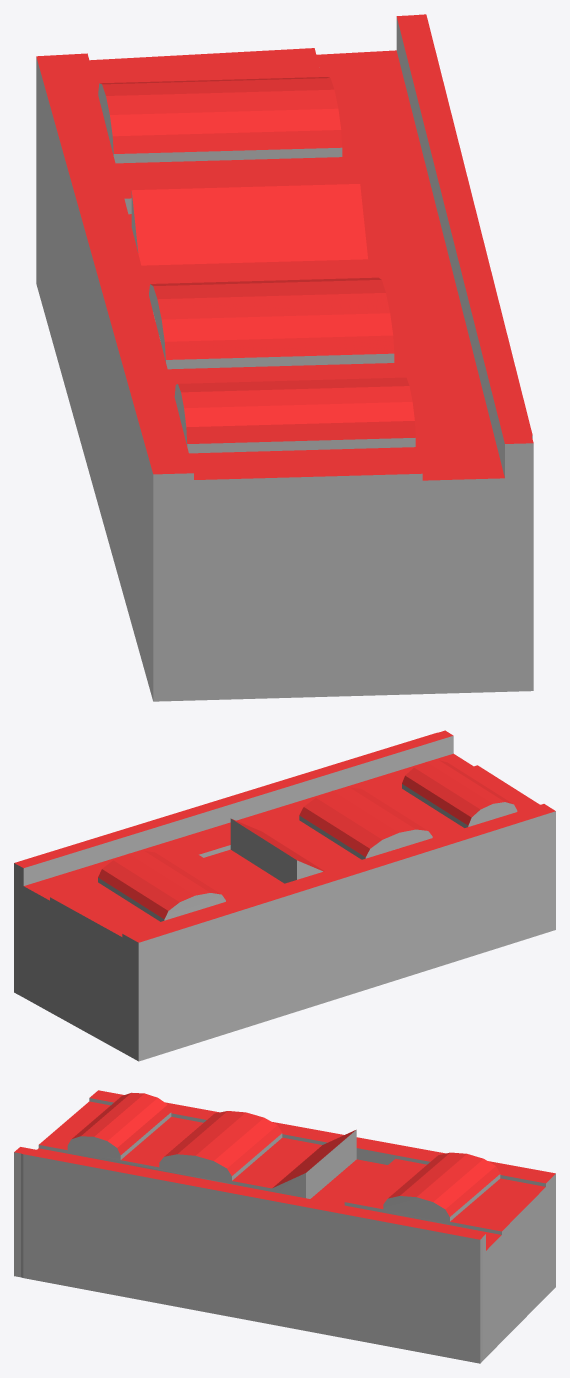
Rendered from DEBY_LOD2_4907134.dae.
3 views of the same model, one above another, from view 1: azimuth 30°, elevation 25°; view 2: azimuth 150°, elevation 25°; view 3: azimuth 270°, elevation 25° (orthographic). The views are drawn at different scales.
Size of the model in its own units: 14 by 20.06 by 5.4.
